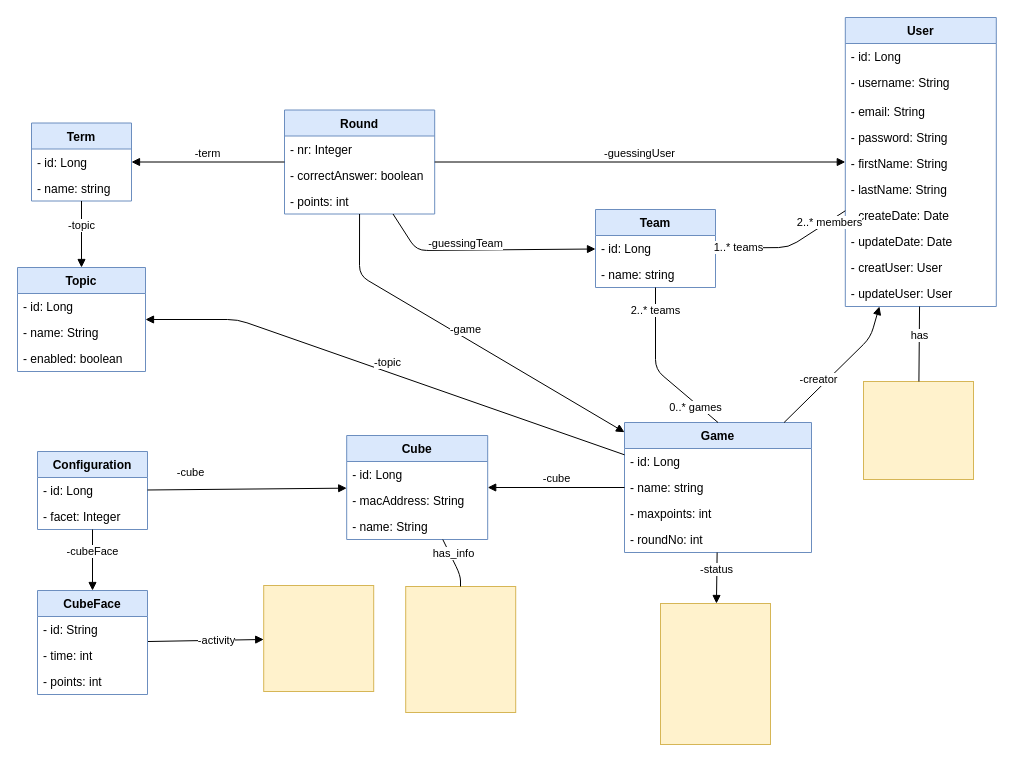
Some shapes in this 1014 by 762 pixel diagram are drawn without their labels. Each missing label, with the centre of its shape:
"<<enumeration>> Activity DRAW MIME TALK RHYME" goes at (318,638).
"<<enumeration>> CubeStatus LIVE READY IN_CONFIG IN_GAME OFFLINE" goes at (460,649).
"<<enumeration>> GameState SETUP VALID_SETUP PLAYED HALTED FINISHED CANCELED" goes at (715,673).
"<<enumeration>> UserRole ADMIN MANAGER PLAYER" goes at (918,430).
